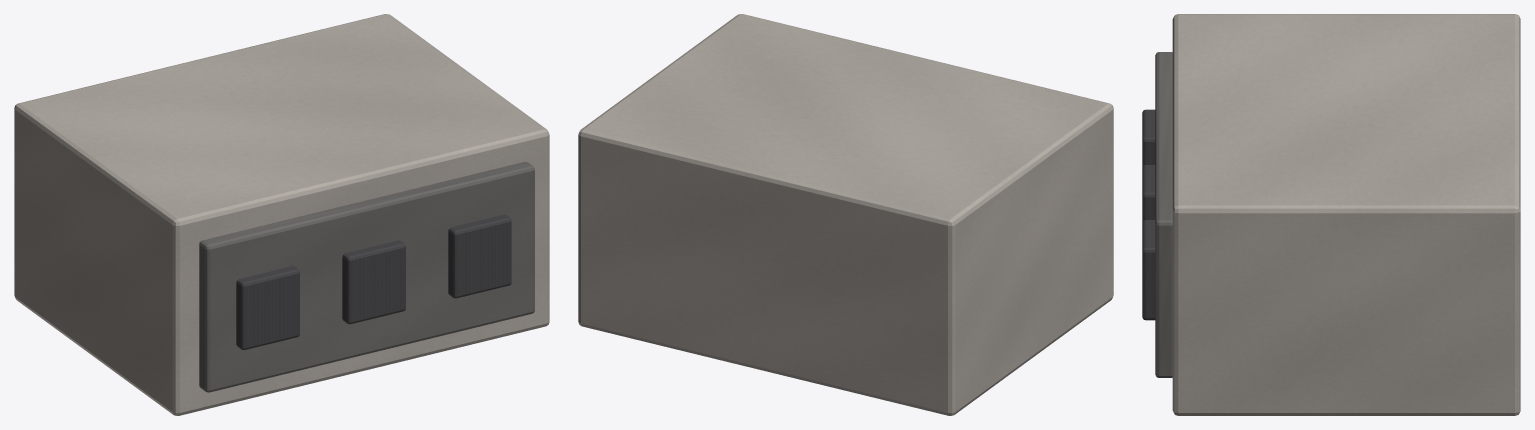
Rendered from electronics_module_case.glb.
3 views of the same model, side by side, from view 1: azimuth 30°, elevation 25°; view 2: azimuth 150°, elevation 25°; view 3: azimuth 270°, elevation 25° (orthographic). The views are drawn at different scales.
Parts seen in each view (by area): view 1: case, face.007, socket, socket.002, socket.001; view 2: case; view 3: case, face.007, socket.002, socket, socket.001.
Boxes of the visible parts, x1=… form: case: x1=14, y1=14, x2=549, y2=415; face.007: x1=199, y1=161, x2=534, y2=392; socket: x1=236, y1=266, x2=299, y2=349; socket.002: x1=448, y1=214, x2=511, y2=298; socket.001: x1=342, y1=240, x2=405, y2=324; case: x1=578, y1=14, x2=1113, y2=415; case: x1=1172, y1=14, x2=1520, y2=415; face.007: x1=1155, y1=52, x2=1172, y2=377; socket.002: x1=1142, y1=220, x2=1155, y2=320; socket: x1=1142, y1=109, x2=1155, y2=166; socket.001: x1=1142, y1=165, x2=1155, y2=222.
Size of the model in its own units: 0.32 by 0.16 by 0.261.
3 materials, 3 textured.
